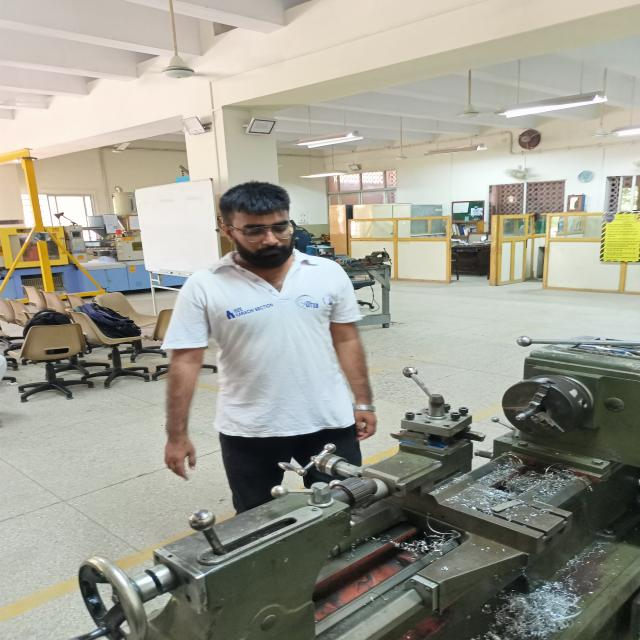dress: (161, 242, 384, 520)
glasses: (230, 220, 305, 243)
